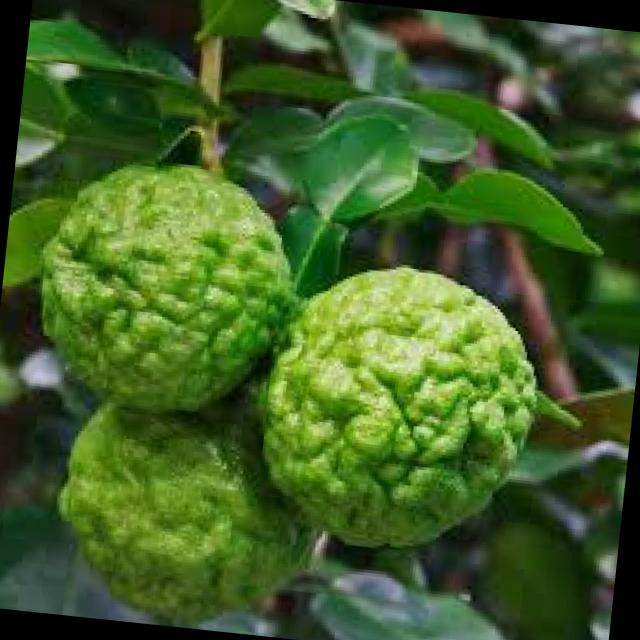Chuc: (247, 248, 555, 564), (27, 148, 308, 426), (45, 392, 334, 638)
